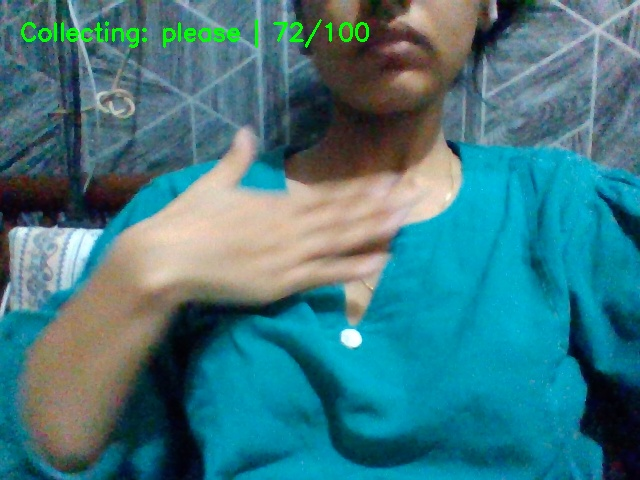please: (139, 126, 458, 342)
